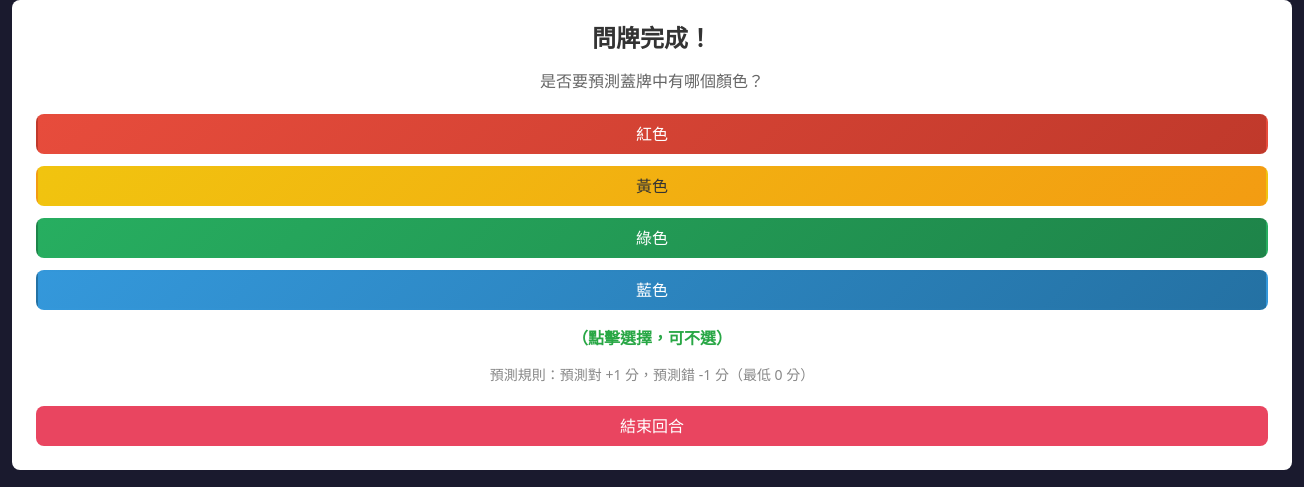
Prediction Component › clicking different color changes selection
The width and height of the screenshot is (1304, 487).
Click the button "紅色" at (652, 134), box [36,114,1268,154]
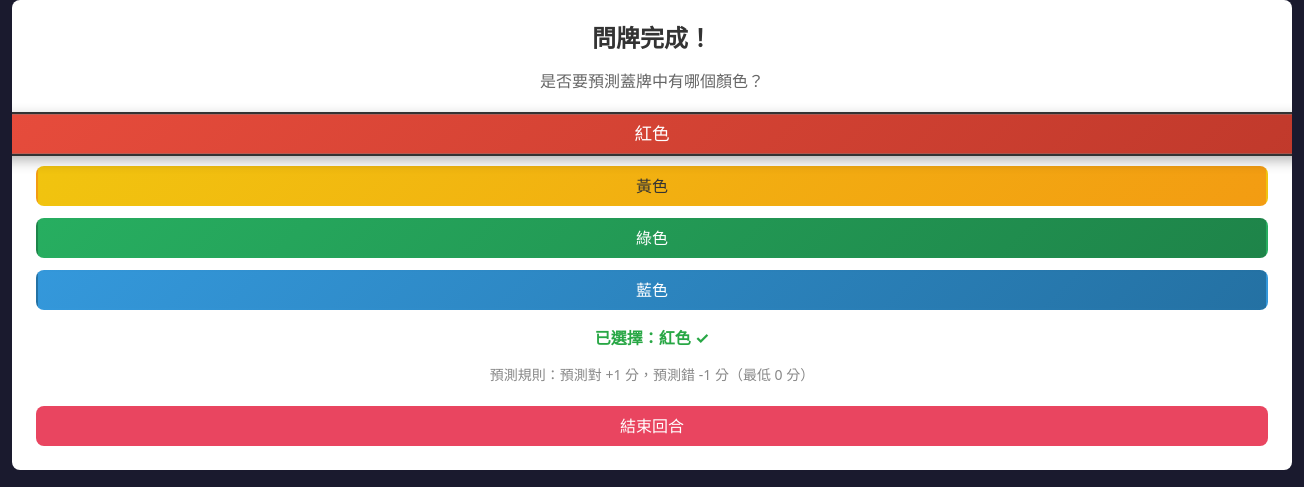
Now the text "已選擇：紅色 ✓" is shown, box [595,327,709,349]
Click the button "藍色" at (652, 290), box [36,270,1268,310]
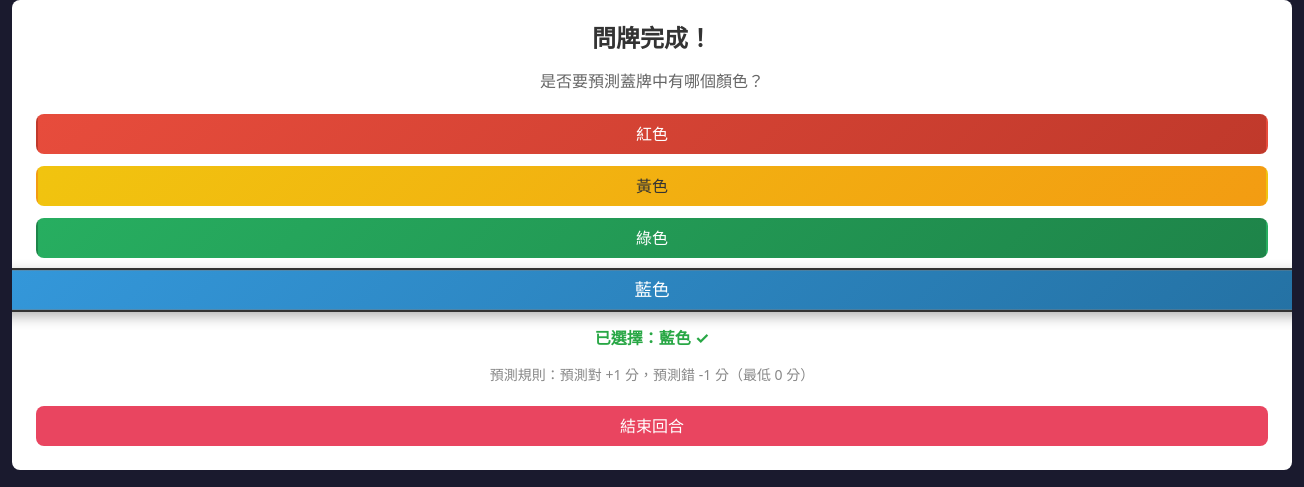
Now the text "已選擇：藍色 ✓" is shown, box [595,327,709,349]
